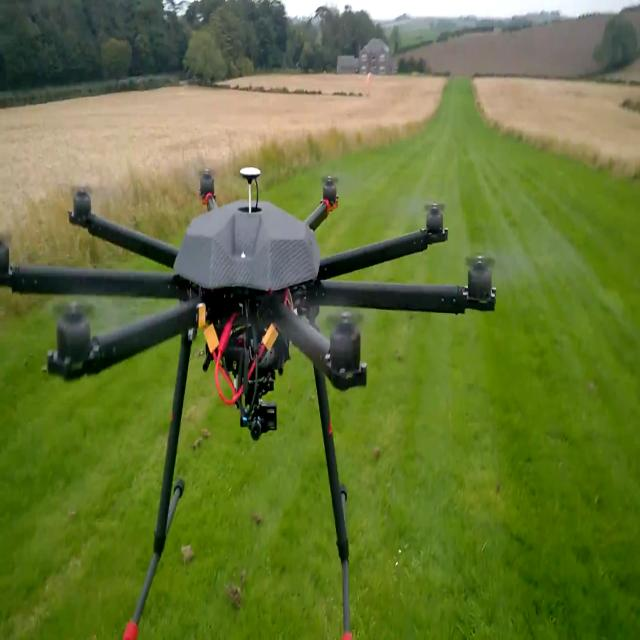drone: (6, 171, 500, 640)
